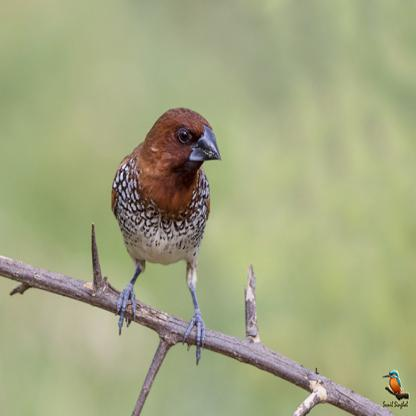Burung: (111, 106, 220, 366)
